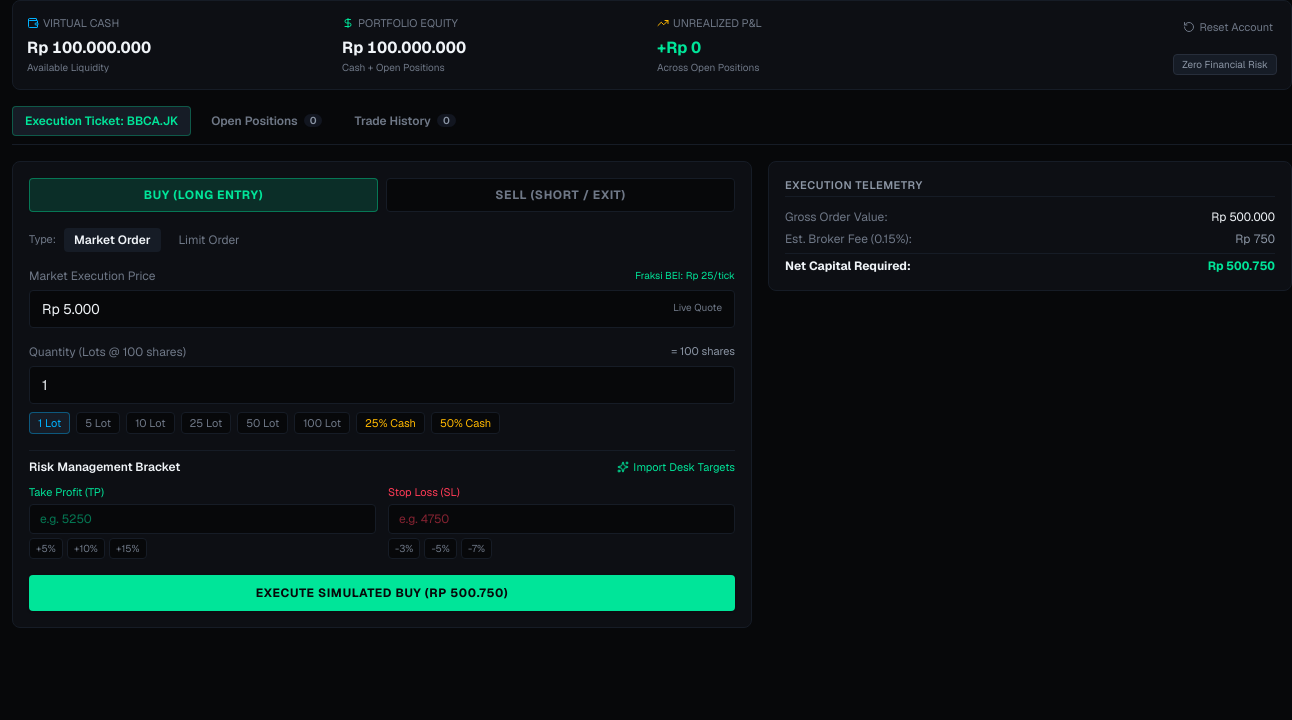
Test: PaperTradingDesk component › imports desk targets when clicking Import Desk Targets button
The width and height of the screenshot is (1292, 720).
Click the button "Import Desk Targets". click: [676, 467]
box: [617, 459, 735, 476]
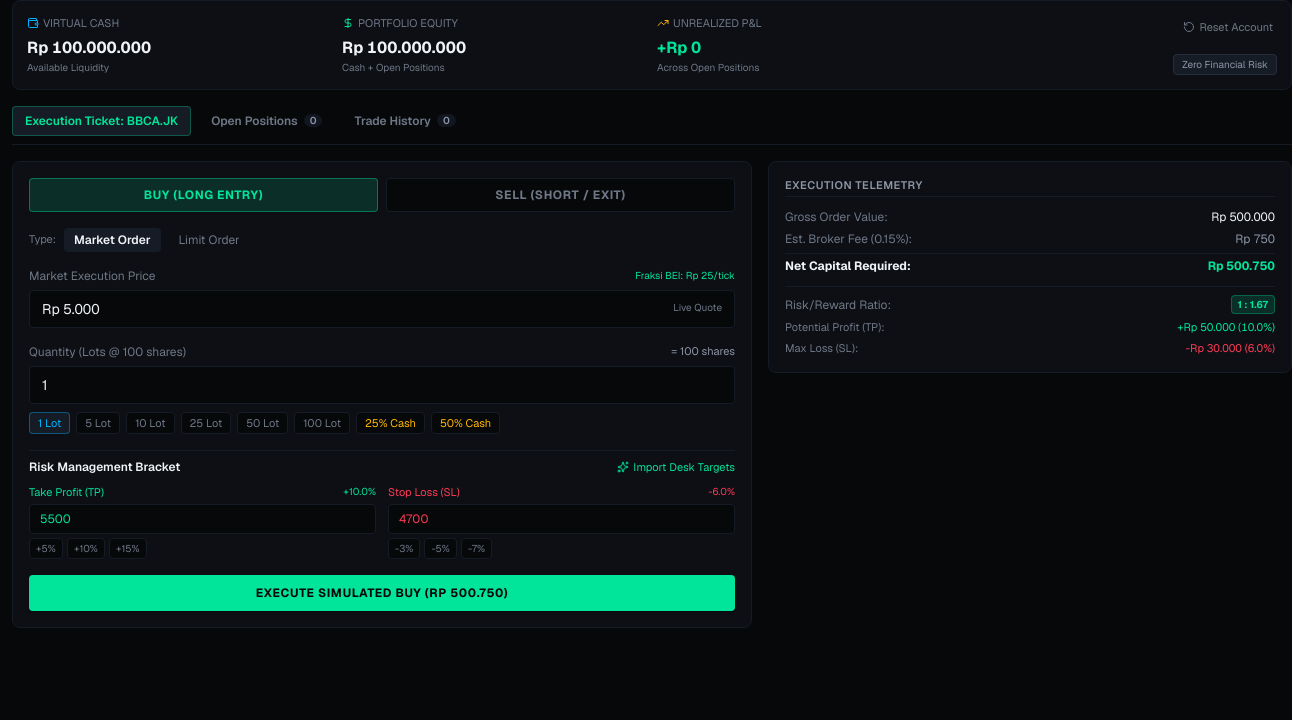
expect the number field named "Take Profit Target" holds "5500": met, box [29, 504, 376, 534]
expect the number field named "Stop Loss Target" holds "4700": met, box [388, 504, 735, 534]
